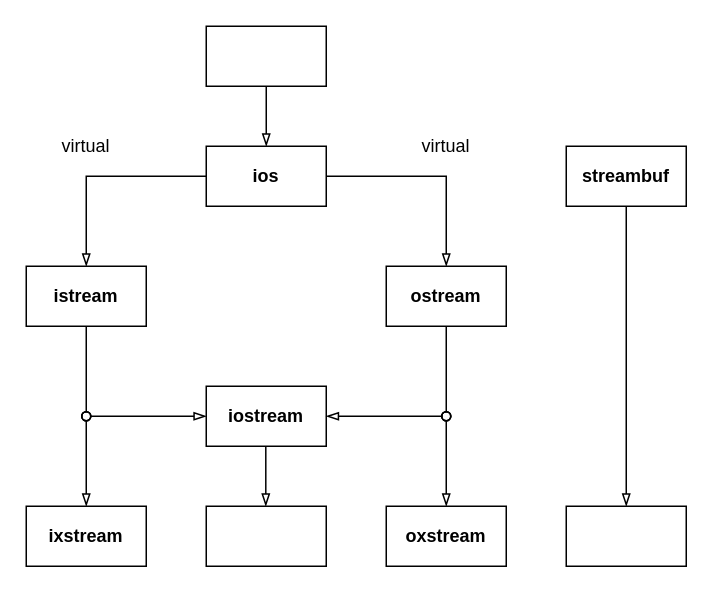
The diagram is 713 pixels wide and 593 high, and some of its shapes have lost their labels. Here are the shapes that lost their labels. From the top down, the centre of each, then its label:
(x=265, y=55): ios_base
(x=265, y=535): xstream
(x=625, y=535): xbuf
